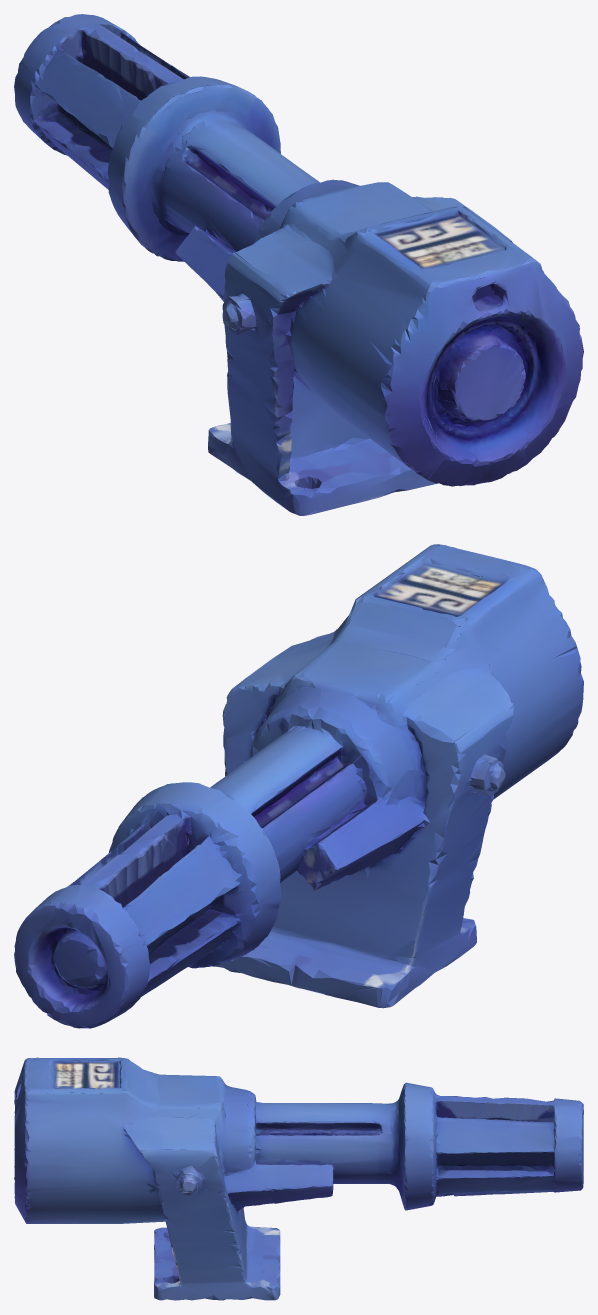
File: formulae_gatling.glb
3 renders of one model, top to bottom at view 1: azimuth 30°, elevation 25°; view 2: azimuth 150°, elevation 25°; view 3: azimuth 270°, elevation 25°, orthographic. The views are drawn at different scales.
Visible parts, largest first — view 1: Gatling_Formula_E_x; view 2: Gatling_Formula_E_x; view 3: Gatling_Formula_E_x.
Part boxes in pixels (left/top/right/bottom): Gatling_Formula_E_x: left=14, top=14, right=583, bottom=515; Gatling_Formula_E_x: left=14, top=544, right=583, bottom=1028; Gatling_Formula_E_x: left=14, top=1057, right=583, bottom=1300.
Bounding box in the file's own units: 0.2988 × 0.307 × 0.8012.
Materials: 1 (1 with a texture image).
